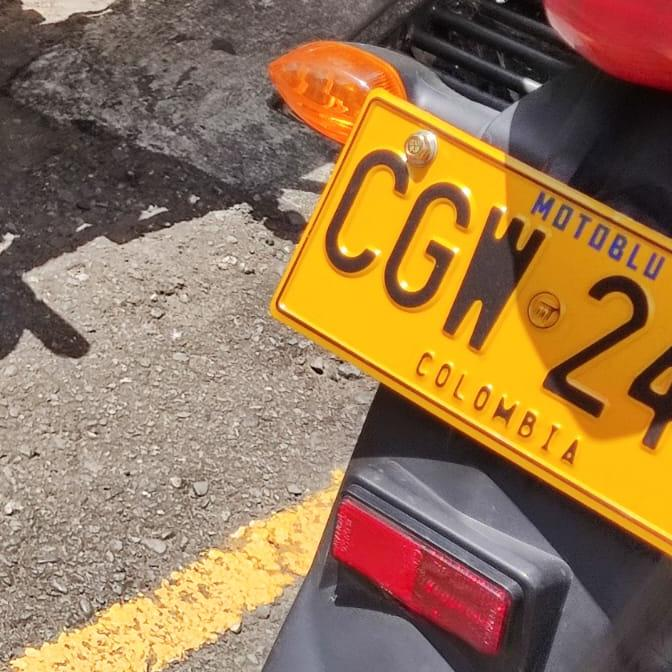plates: (268, 92, 672, 554)
